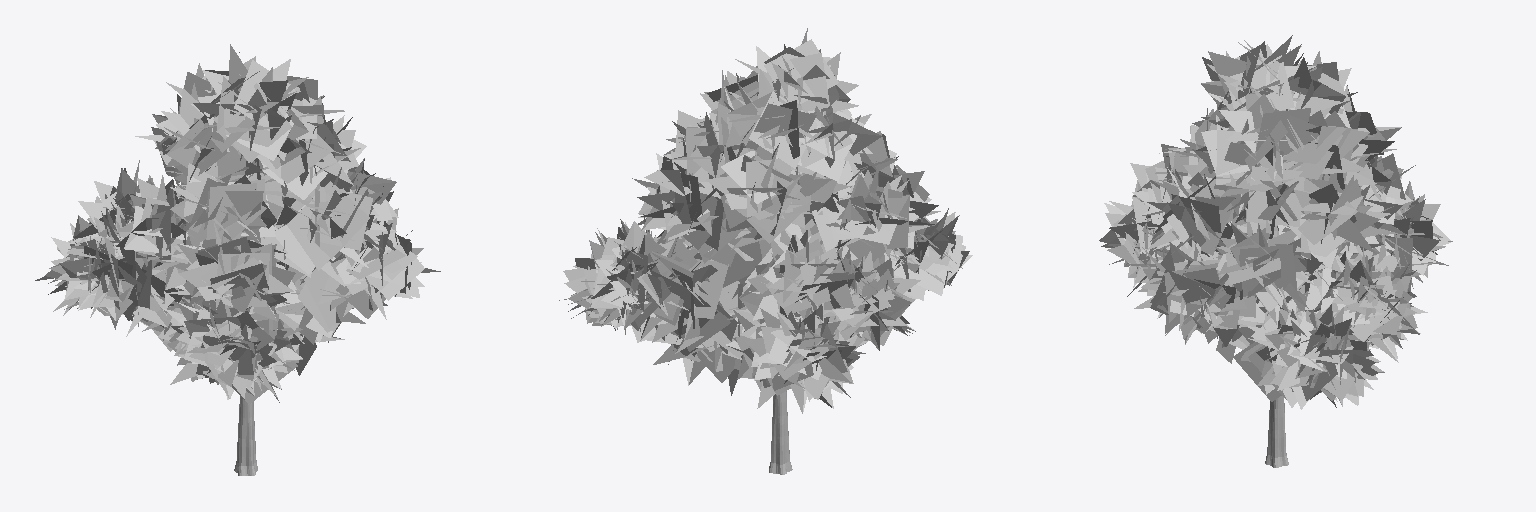
Rendered from BlenderPineTree.obj.
The picture shows the model from 3 angles: view 1: azimuth 30°, elevation 25°; view 2: azimuth 150°, elevation 25°; view 3: azimuth 270°, elevation 25°; orthographic projection.
Visible parts, largest first — view 1: tree_branch05.001, tree_bark02.001; view 2: tree_branch05.001, tree_bark02.001; view 3: tree_branch05.001, tree_bark02.001.
Part boxes in pixels (bbox=[...]): tree_branch05.001: bbox=[35, 44, 440, 404]; tree_bark02.001: bbox=[234, 396, 257, 475]; tree_branch05.001: bbox=[559, 28, 972, 413]; tree_bark02.001: bbox=[769, 391, 792, 474]; tree_branch05.001: bbox=[1099, 35, 1452, 409]; tree_bark02.001: bbox=[1265, 396, 1288, 467].
Size of the model in its own units: 252 by 299 by 232.